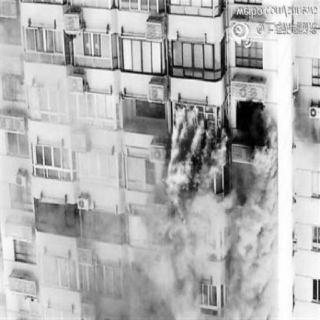Fire: (153, 106, 209, 233)
Smoke: (150, 193, 272, 319)
